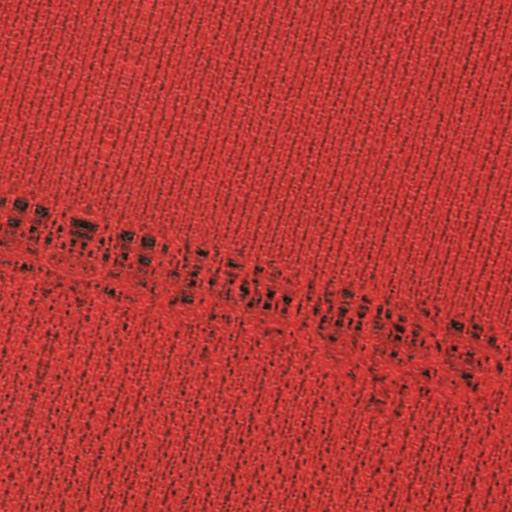slub: (2, 174, 512, 421)
